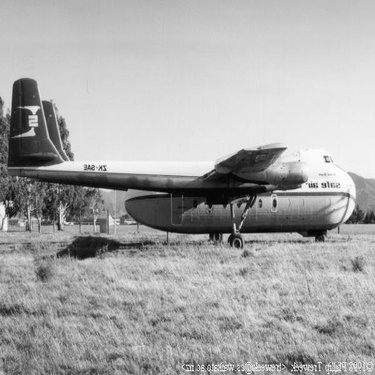airplane: (6, 68, 361, 254)
